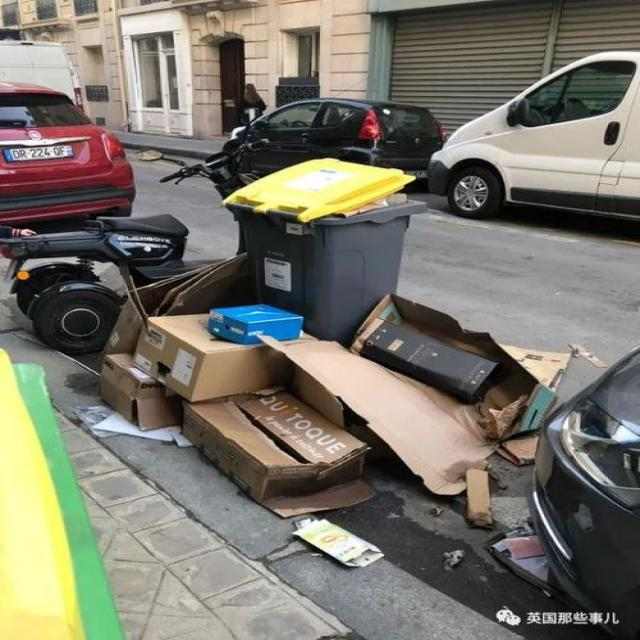garbage: (77, 254, 605, 566)
overflow: (226, 158, 427, 340)
